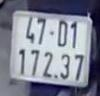1: (13, 45, 26, 76), (69, 19, 79, 50)
2: (43, 49, 54, 78)
3: (59, 50, 69, 80)
4: (24, 14, 36, 46)
7: (36, 15, 48, 49), (73, 51, 84, 86), (30, 46, 41, 77)
D: (56, 17, 68, 50)
